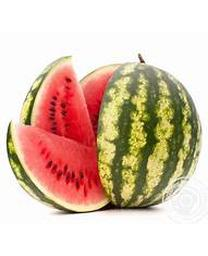watermelon: (5, 57, 202, 212)
